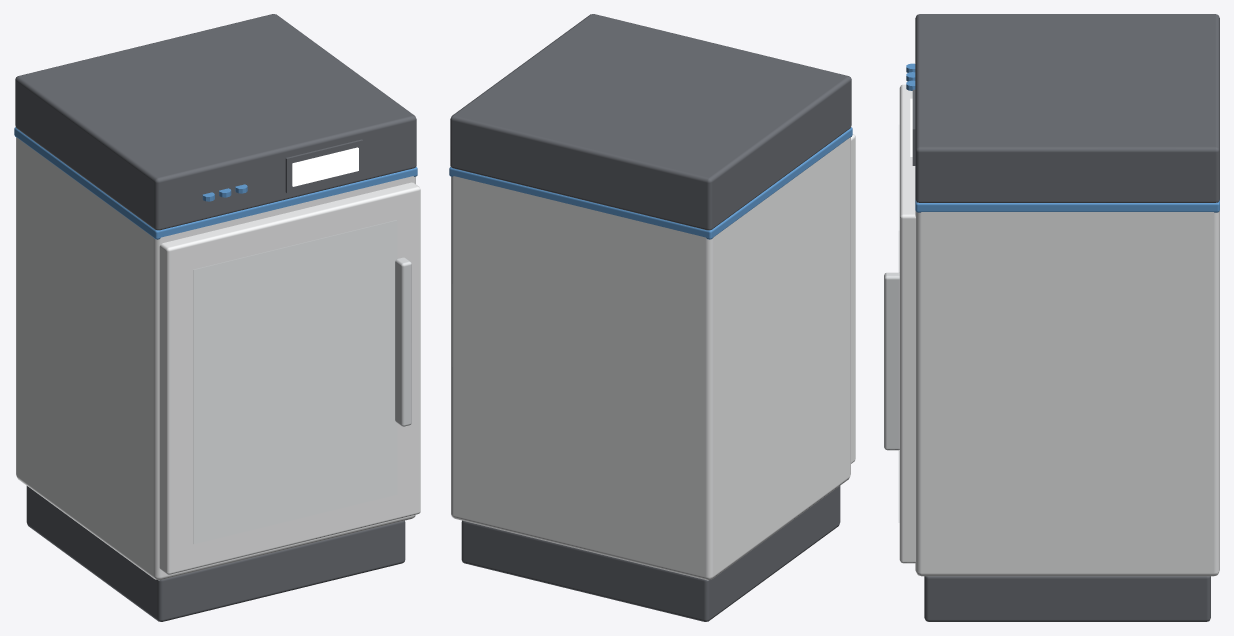
File: incubator.glb
3 renders of one model, left to right at view 1: azimuth 30°, elevation 25°; view 2: azimuth 150°, elevation 25°; view 3: azimuth 270°, elevation 25°, orthographic. The views are drawn at different scales.
Visible parts, largest first — view 1: incubator, door-incubator/white, door-incubator/glass, door-incubator/steel; view 2: incubator, door-incubator/white; view 3: incubator, door-incubator/white, door-incubator/steel.
Part boxes in pixels (bbox=[...]): incubator: bbox=[14, 14, 417, 621]; door-incubator/white: bbox=[159, 182, 420, 574]; door-incubator/glass: bbox=[193, 220, 396, 543]; door-incubator/steel: bbox=[395, 257, 411, 426]; incubator: bbox=[449, 14, 852, 621]; door-incubator/white: bbox=[851, 134, 855, 463]; incubator: bbox=[906, 14, 1219, 621]; door-incubator/white: bbox=[899, 84, 915, 563]; door-incubator/steel: bbox=[884, 272, 899, 450].
Size of the model in its own units: 0.722 by 1.18 by 0.75.
